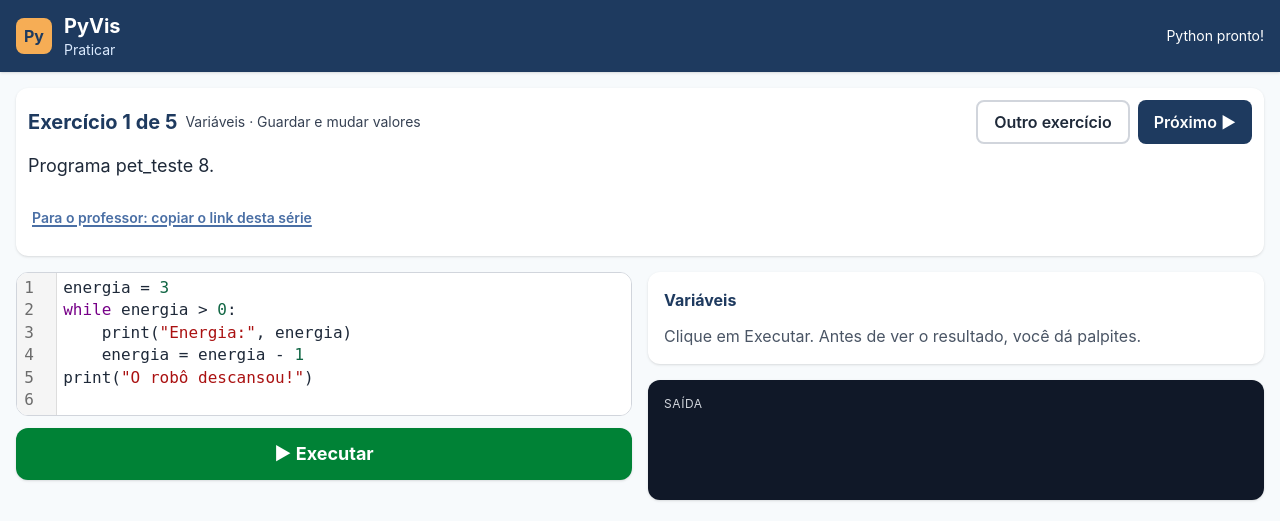
Scenario: área Praticar › um link com família fixa só traz exercícios dela
Click the button "Próximo ▶" at (1195, 122), box [1138,100,1252,144]
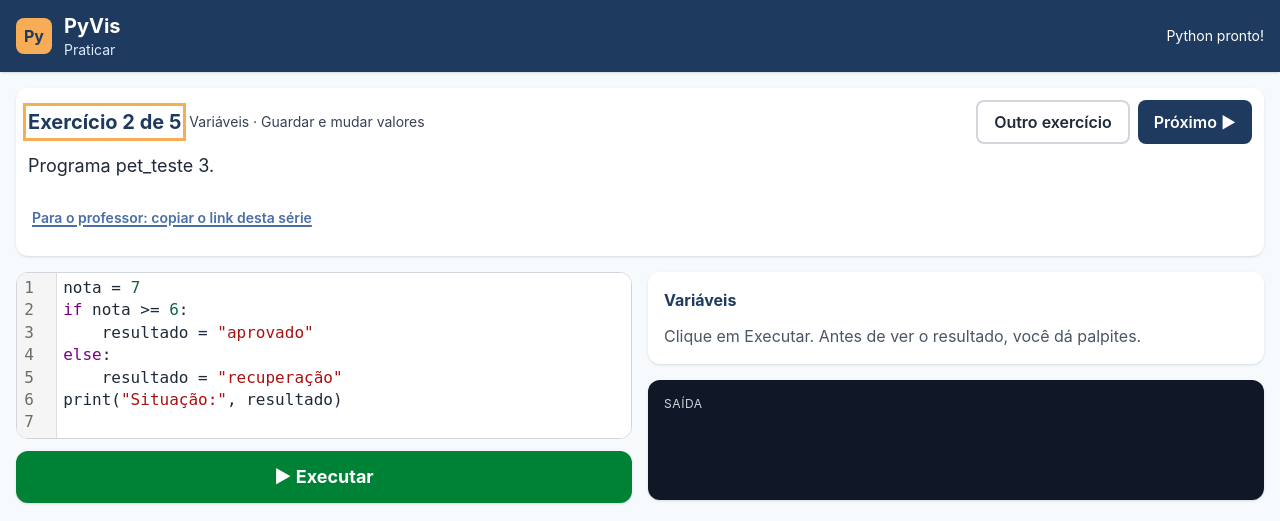
Click the button "Próximo ▶" at (1195, 122), box [1138,100,1252,144]
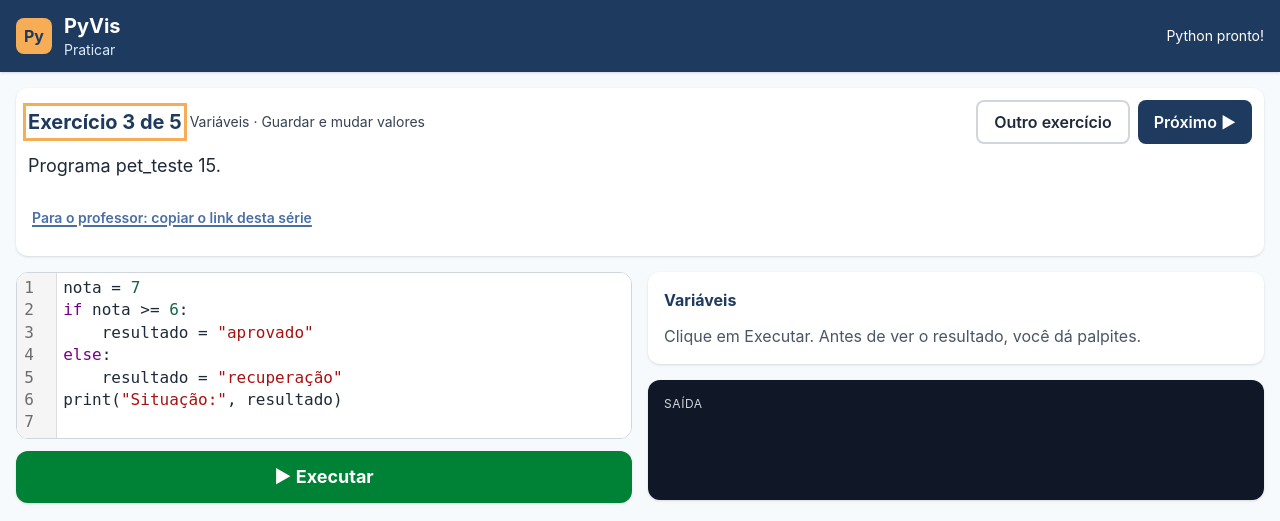
Click the button "Próximo ▶" at (1195, 122), box [1138,100,1252,144]
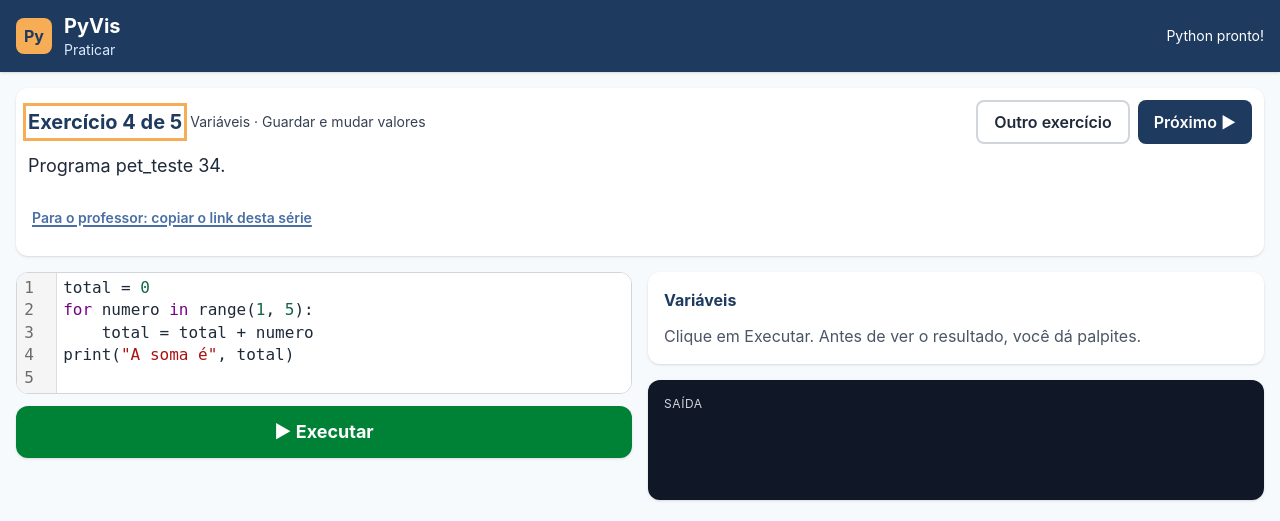
Click the button "Próximo ▶" at (1195, 122), box [1138,100,1252,144]
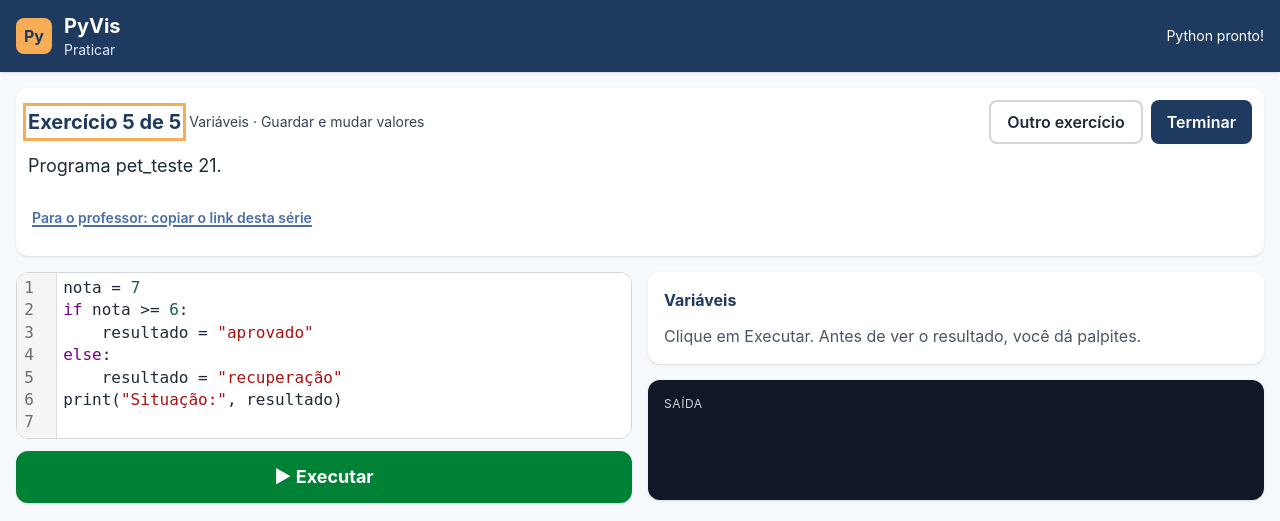
Click the button "Terminar" at (1201, 122), box [1151,100,1252,144]
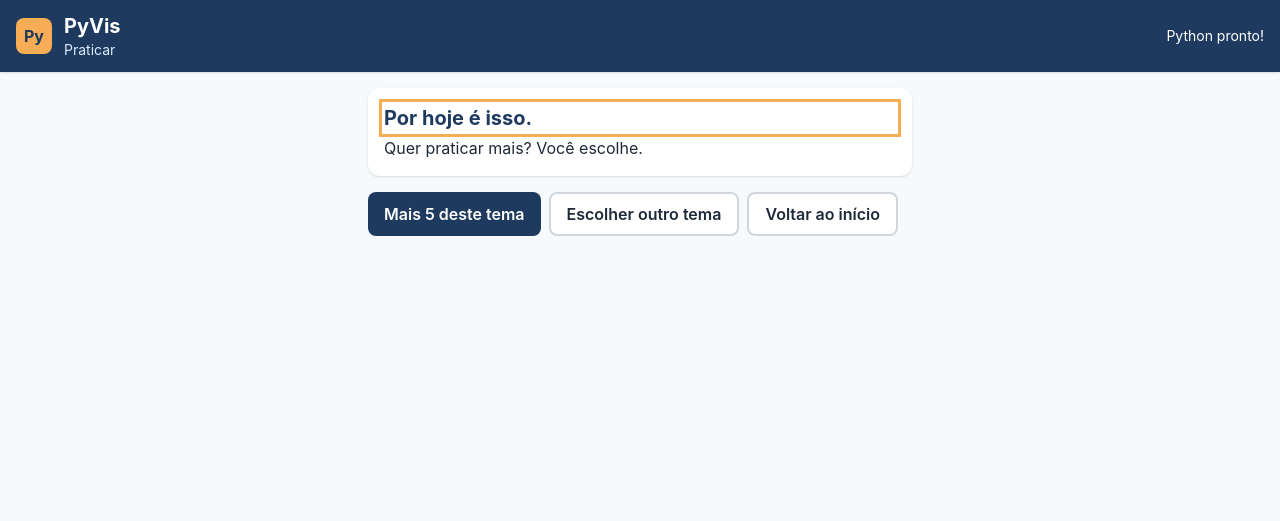
Expected: the heading "Por hoje é isso." is shown, [384,106,532,130]
